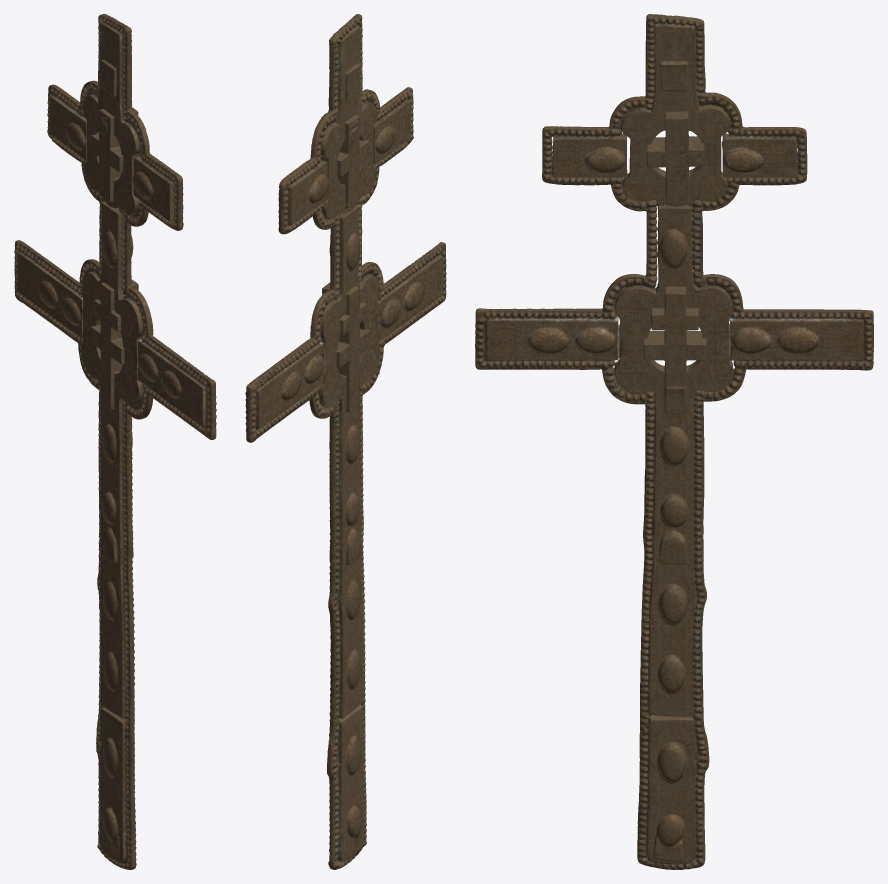
The model's file is sample.glb.
3 views of the same model, side by side, from view 1: azimuth 30°, elevation 25°; view 2: azimuth 150°, elevation 25°; view 3: azimuth 270°, elevation 25° (orthographic).
Visible parts, largest first — view 1: tripo_node_e588111c-7fdd-4035-bf6a-8a98ed2238ec; view 2: tripo_node_e588111c-7fdd-4035-bf6a-8a98ed2238ec; view 3: tripo_node_e588111c-7fdd-4035-bf6a-8a98ed2238ec.
Part boxes in pixels (left/top/right/bottom): tripo_node_e588111c-7fdd-4035-bf6a-8a98ed2238ec: left=14, top=14, right=216, bottom=869; tripo_node_e588111c-7fdd-4035-bf6a-8a98ed2238ec: left=245, top=14, right=446, bottom=869; tripo_node_e588111c-7fdd-4035-bf6a-8a98ed2238ec: left=475, top=14, right=873, bottom=869.
Size of the model in its own units: 0.0372 by 0.9975 by 0.4219.
1 material, 1 textured.
